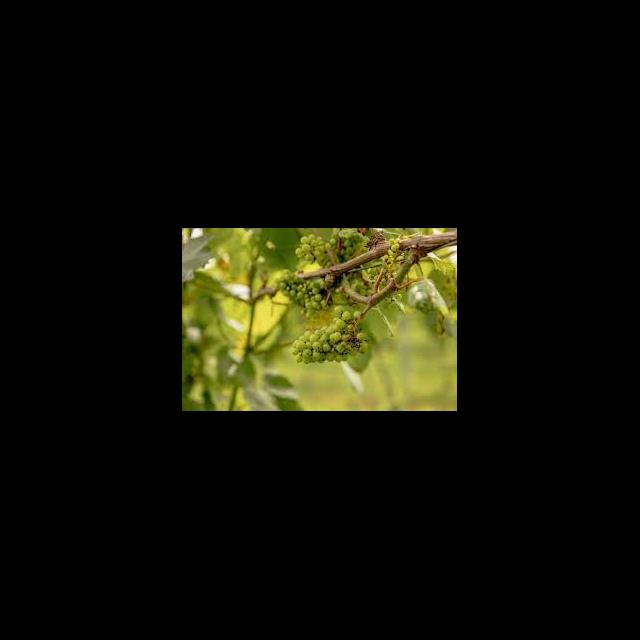grape: (292, 304, 369, 364)
